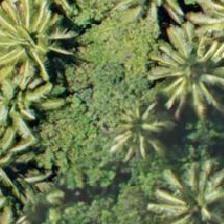Kelapa_Sawit: (142, 37, 224, 127), (0, 6, 76, 96), (149, 164, 224, 224), (0, 65, 47, 155)
